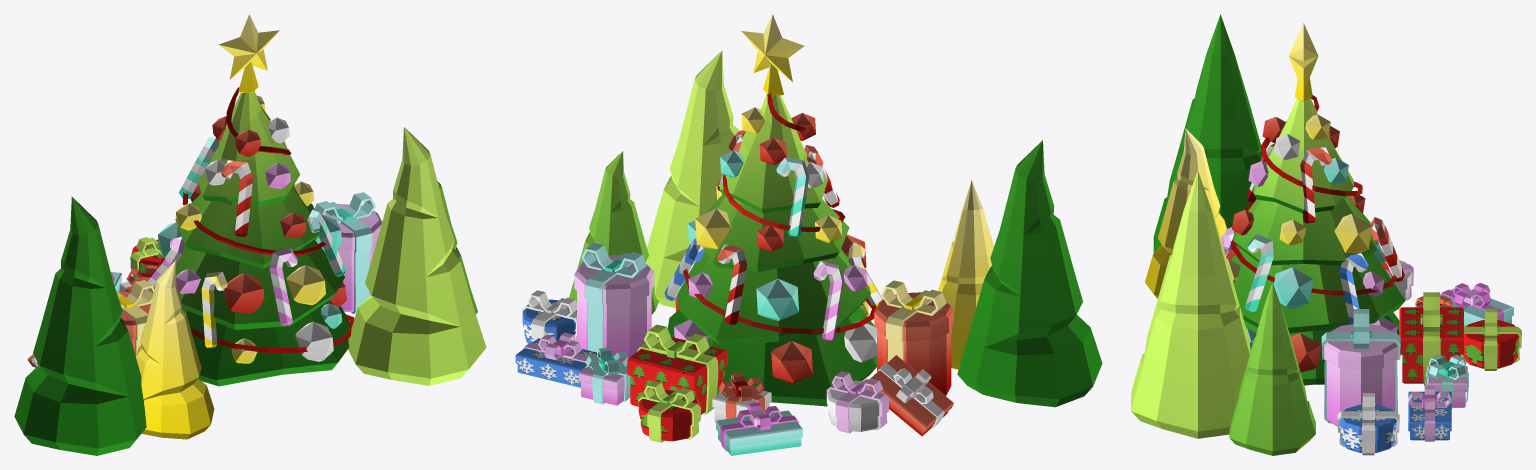
The model's file is Xmas.obj.
The picture shows the model from 3 angles, left to right: view 1: azimuth 30°, elevation 25°; view 2: azimuth 150°, elevation 25°; view 3: azimuth 270°, elevation 25°; orthographic projection. The views are drawn at different scales.
Parts seen in each view (by area): view 1: Christmas_Tree_V1_03__1_, Christmas_Tree_V2_02__1_, Christmas_Tree_V2_00__1_, Christmas_Tree_V2_03__1_, Present_Box_Color_06__1_, Present_Box_Color_12__1_, Christmas_Ball_10__3_, Christmas_Candy_04__2_, Christmas_Candy_00__2_, Christmas_Ball_09__2_, Christmas_Ball_06__2_, Christmas_Candy_03__1_ (+9 smaller); view 2: Christmas_Tree_V1_03__1_, Christmas_Tree_V2_00__1_, Christmas_Tree_V2_02__1_, Present_Box_Color_06__1_, Present_Box_Color_12__1_, Present_Box_Pattern_06__1_, Christmas_Tree_V2_03__1_, Christmas_Tree_V2_01__1_, Present_Box_Color_26__1_, Present_Box_Color_02__1_, Present_Box_Pattern_09__1_, Present_Box_Color_14__1_ (+17 smaller); view 3: Christmas_Tree_V2_02__1_, Christmas_Tree_V1_03__1_, Christmas_Tree_V2_00__1_, Christmas_Tree_V2_01__1_, Present_Box_Color_06__1_, Present_Box_Pattern_06__1_, Christmas_Tree_V2_03__1_, Present_Box_Pattern_03__1_, Present_Box_Pattern_09__1_, Present_Box_Pattern_02__1_, Present_Box_Color_11__1_, Present_Box_Color_02__1_ (+15 smaller).
Boxes of the visible parts, <box> form: Christmas_Tree_V1_03__1_: <box>154,14,354,386</box>; Christmas_Tree_V2_02__1_: <box>348,127,486,385</box>; Christmas_Tree_V2_00__1_: <box>14,197,146,455</box>; Christmas_Tree_V2_03__1_: <box>136,261,214,439</box>; Present_Box_Color_06__1_: <box>314,192,382,314</box>; Present_Box_Color_12__1_: <box>116,280,154,356</box>; Christmas_Ball_10__3_: <box>224,273,264,313</box>; Christmas_Candy_04__2_: <box>221,160,253,236</box>; Christmas_Candy_00__2_: <box>269,247,297,325</box>; Christmas_Ball_09__2_: <box>286,265,325,305</box>; Christmas_Ball_06__2_: <box>295,321,333,361</box>; Christmas_Candy_03__1_: <box>201,271,227,347</box>; Christmas_Tree_V1_03__1_: <box>667,14,876,406</box>; Christmas_Tree_V2_00__1_: <box>957,140,1102,407</box>; Christmas_Tree_V2_02__1_: <box>645,50,739,308</box>; Present_Box_Color_06__1_: <box>574,243,654,361</box>; Present_Box_Color_12__1_: <box>874,280,953,395</box>; Present_Box_Pattern_06__1_: <box>627,324,727,414</box>; Christmas_Tree_V2_03__1_: <box>938,180,993,369</box>; Christmas_Tree_V2_01__1_: <box>569,151,658,314</box>; Present_Box_Color_26__1_: <box>868,355,953,436</box>; Present_Box_Color_02__1_: <box>716,402,802,455</box>; Present_Box_Pattern_09__1_: <box>638,380,700,442</box>; Present_Box_Color_14__1_: <box>826,371,889,433</box>; Christmas_Tree_V2_02__1_: <box>1131,170,1250,438</box>; Christmas_Tree_V1_03__1_: <box>1230,23,1405,385</box>; Christmas_Tree_V2_00__1_: <box>1153,14,1262,253</box>; Christmas_Tree_V2_01__1_: <box>1229,282,1315,455</box>; Present_Box_Color_06__1_: <box>1321,309,1400,426</box>; Present_Box_Pattern_06__1_: <box>1399,292,1463,385</box>; Christmas_Tree_V2_03__1_: <box>1145,128,1226,298</box>; Present_Box_Pattern_03__1_: <box>1337,393,1399,455</box>; Present_Box_Pattern_09__1_: <box>1461,308,1521,370</box>; Present_Box_Pattern_02__1_: <box>1408,386,1451,441</box>; Present_Box_Color_11__1_: <box>1425,355,1468,408</box>; Present_Box_Color_02__1_: <box>1440,283,1513,326</box>.
Size of the model in its own units: 207 by 142 by 148.
